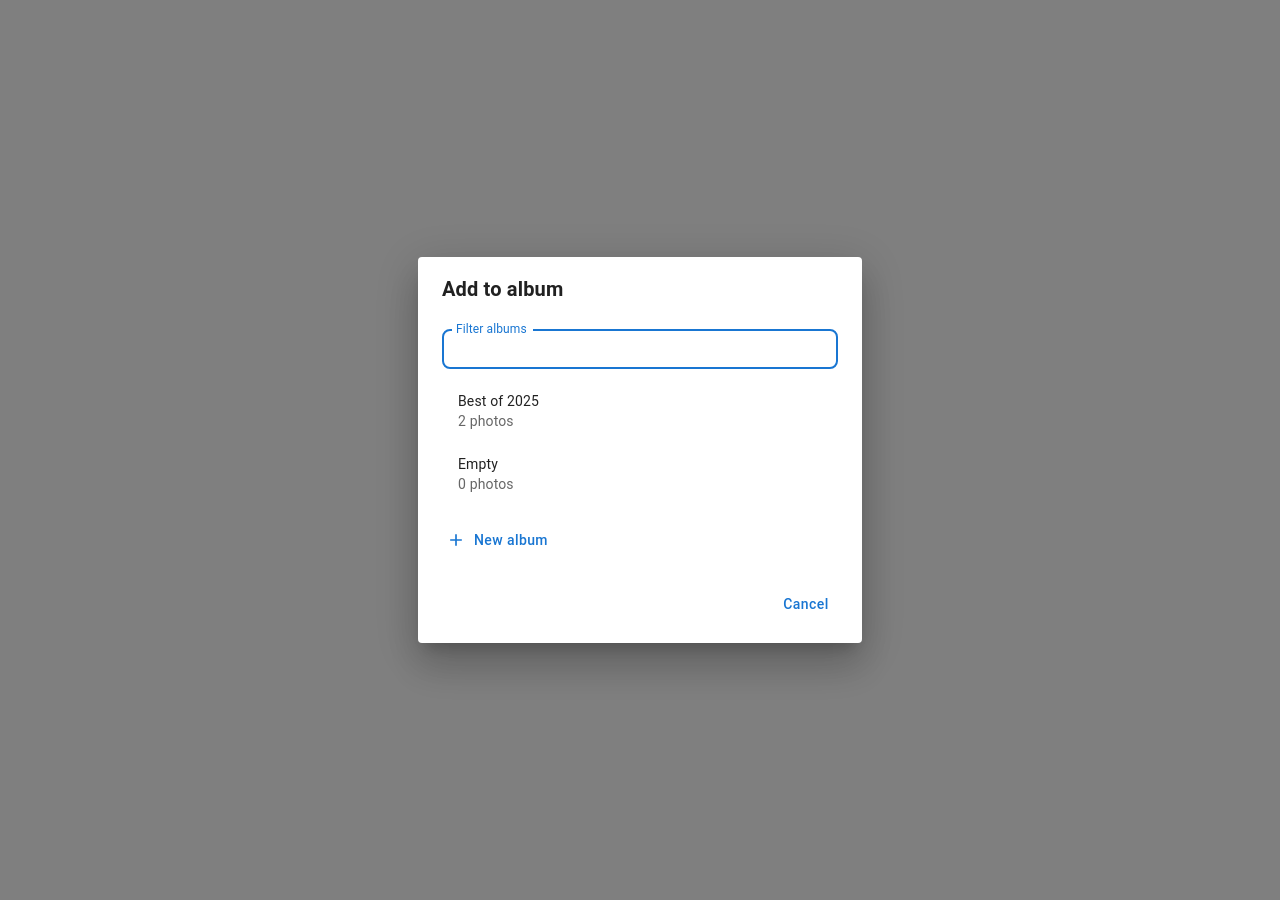
Scenario: AlbumPicker › says when a new album name is taken
Step 1. Click the button "New album" → (499,540), box [442, 522, 556, 558]
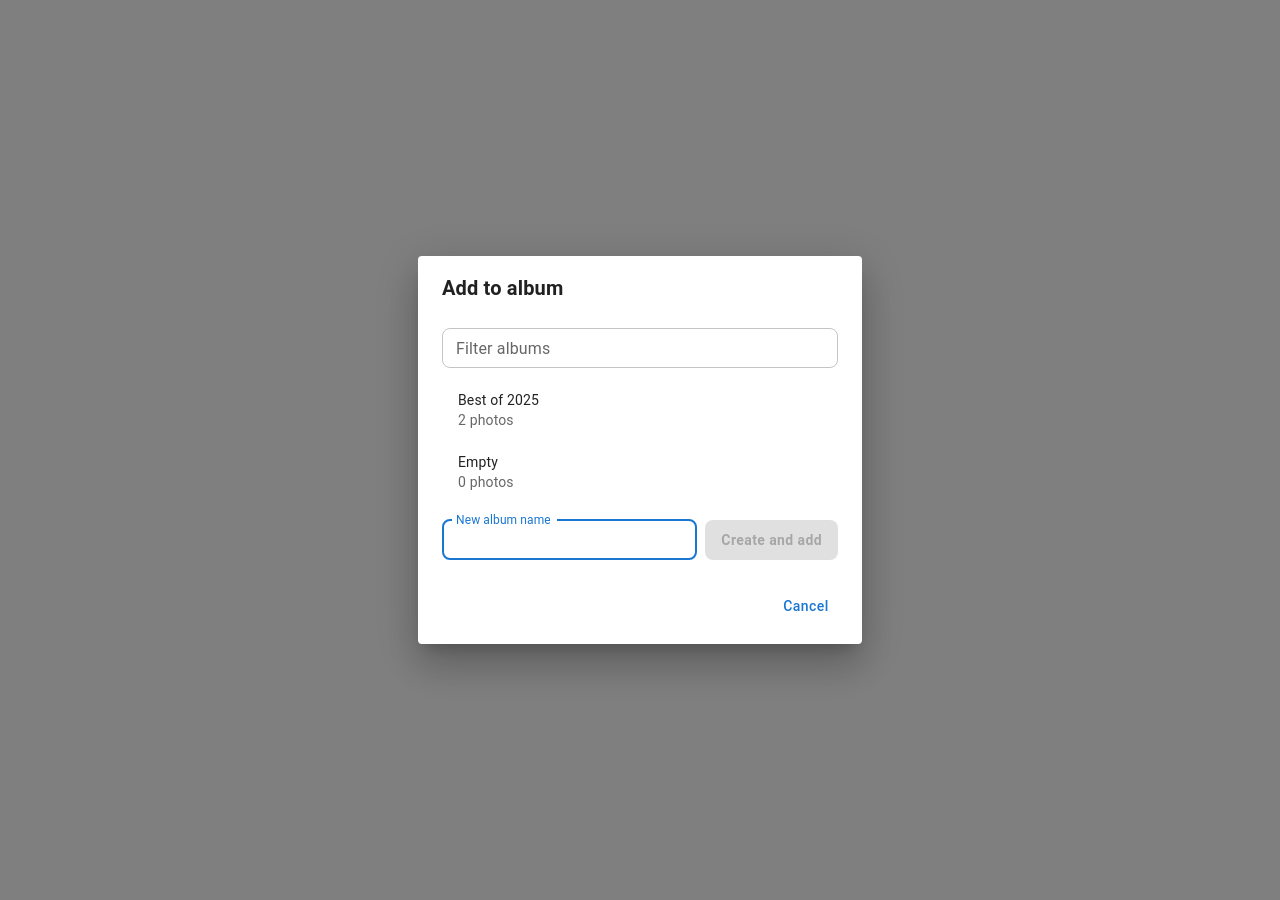
Step 2. Type "best of 2025" into the field labelled "New album name" → (570,540), box [442, 520, 697, 560]
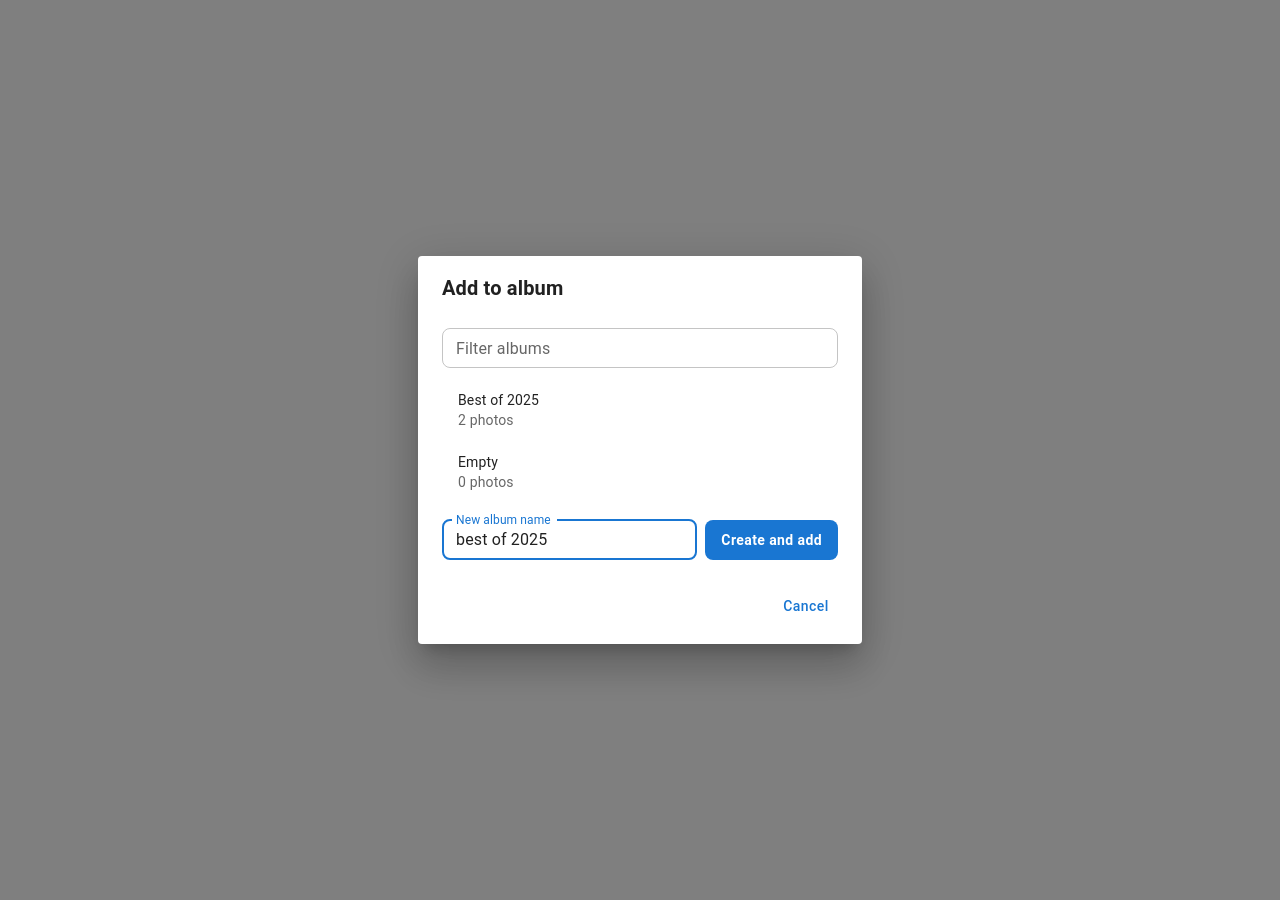
Step 3. Click the button "Create and add" → (772,540), box [705, 520, 838, 560]
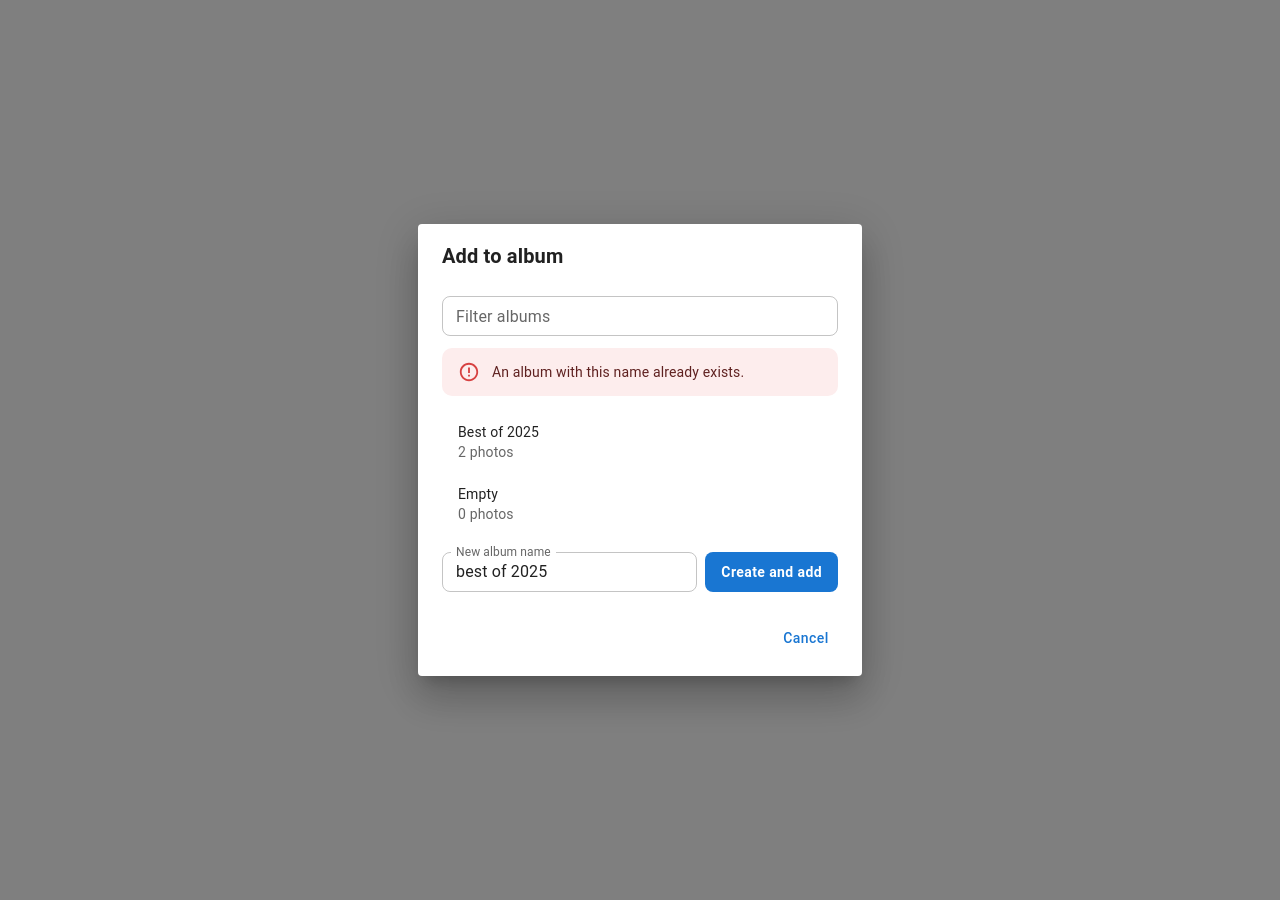
Expected: the dialog "Add to album" is shown, [418, 224, 862, 676]
Result: the text "An album with this name already exists." is shown at [492, 364, 744, 380]
